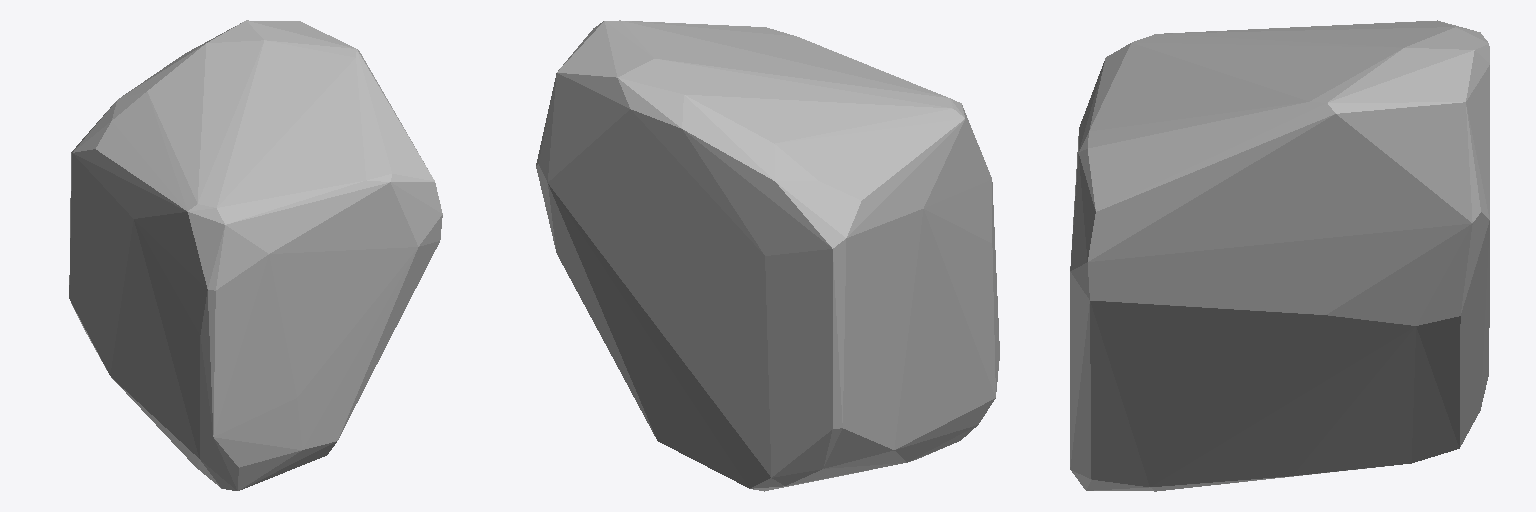
The robot description file, URDF, robot "root":
<robot name="root">
  <link name="link_rock25_convex_piece_0">
    <inertial>
      <origin rpy="0 0 0" xyz="0 0 0"/>
      <mass value="1.72E+06"/>
      <inertia ixx="3.76E+09" ixy="-4.85E+08" ixz="1.31E+09" iyy="4.29E+09" iyz="9.45E+08" izz="3.95E+09"/>
    </inertial>
    <visual>
      <origin rpy="0 0 0" xyz="0 0 0"/>
      <geometry>
        <mesh filename="rock25_convex_piece_0.obj" scale="1.0000E+00 1.0000E+00 1.0000E+00"/>
      </geometry>
      <material name="">
        <color rgba="7.50E-01 7.50E-01 7.50E-01 1"/>
      </material>
    </visual>
    <collision>
      <origin rpy="0 0 0" xyz="0 0 0"/>
      <geometry>
        <mesh filename="rock25_convex_piece_0.obj" scale="1.0000E+00 1.0000E+00 1.0000E+00"/>
      </geometry>
    </collision>
  </link>
</robot>

--- Render facts (derived) ---
Views: 3 orthographic renders of the robot side by side, from view 1: azimuth 30°, elevation 25°; view 2: azimuth 150°, elevation 25°; view 3: azimuth 270°, elevation 25°.
Robot: root — 1 links, 0 joints (none); root link link_rock25_convex_piece_0; default pose: every joint at zero.
Visible links, largest first — view 1: link_rock25_convex_piece_0; view 2: link_rock25_convex_piece_0; view 3: link_rock25_convex_piece_0.
Link boxes in pixels (x1,y1,x2,y2): link_rock25_convex_piece_0: [69, 20, 442, 490]; link_rock25_convex_piece_0: [536, 20, 999, 491]; link_rock25_convex_piece_0: [1070, 20, 1489, 491].
Size in the robot's own frame: 126 by 129 by 170 metres.
1 mesh visuals loaded from 1 distinct referenced files (1 OBJ).
